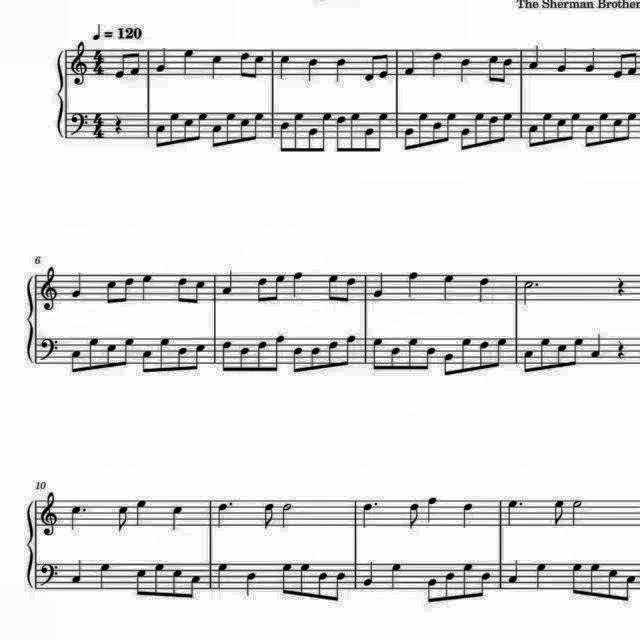Bass-clef: (38, 334, 62, 364), (38, 560, 62, 588), (66, 110, 90, 138)
Eighth-note: (346, 104, 362, 156), (459, 561, 476, 603), (334, 112, 350, 156), (272, 333, 288, 375), (290, 109, 306, 151), (622, 572, 640, 608), (458, 334, 474, 374), (158, 334, 174, 374), (298, 558, 314, 598), (587, 560, 603, 600), (377, 110, 391, 154), (132, 566, 150, 600), (172, 272, 190, 306), (236, 48, 254, 82), (406, 335, 422, 373), (604, 565, 620, 603), (568, 561, 584, 599), (370, 335, 386, 373), (87, 334, 103, 372), (150, 560, 166, 598), (278, 559, 294, 597), (115, 501, 133, 534), (344, 333, 360, 369), (360, 52, 378, 84), (444, 108, 460, 144), (525, 116, 541, 152), (277, 120, 293, 156), (594, 112, 610, 148), (538, 110, 554, 146), (472, 110, 486, 150), (494, 336, 510, 370), (314, 569, 330, 603), (486, 51, 502, 85), (442, 570, 458, 604), (122, 335, 138, 369), (536, 336, 552, 370), (218, 339, 234, 373), (424, 576, 441, 608), (624, 109, 640, 143), (324, 272, 341, 304), (612, 48, 628, 82), (498, 111, 514, 145), (566, 110, 582, 144), (550, 497, 568, 527), (320, 110, 332, 154), (324, 338, 340, 370), (478, 338, 494, 370), (288, 344, 304, 376), (478, 568, 494, 600), (250, 112, 266, 144), (120, 274, 136, 306), (569, 334, 585, 366), (252, 273, 268, 305), (254, 338, 268, 374), (170, 566, 184, 602), (168, 108, 182, 144), (191, 341, 207, 372), (103, 277, 119, 307), (406, 499, 422, 529), (250, 52, 266, 82), (272, 272, 288, 302), (262, 501, 278, 531), (68, 345, 84, 375), (418, 112, 430, 150), (174, 344, 190, 372), (308, 343, 324, 371), (138, 346, 154, 374), (113, 50, 127, 82), (334, 568, 350, 596), (306, 126, 322, 154), (442, 350, 458, 378), (344, 274, 358, 306), (190, 278, 206, 306), (402, 126, 418, 154), (520, 346, 536, 374), (186, 572, 202, 600), (224, 112, 236, 148), (627, 47, 640, 80), (104, 340, 118, 370), (555, 340, 569, 370), (488, 113, 500, 147), (130, 50, 144, 78), (423, 345, 437, 373), (238, 344, 252, 372), (181, 116, 195, 144), (388, 344, 402, 372), (458, 126, 472, 154), (361, 126, 375, 154), (152, 122, 166, 150), (583, 122, 597, 150), (210, 122, 224, 150), (502, 54, 514, 86), (198, 112, 210, 144), (612, 114, 624, 146), (556, 114, 568, 146), (380, 51, 392, 83), (240, 116, 252, 144), (430, 122, 442, 148), (639, 47, 640, 80)
Half-dot: (522, 277, 544, 307)
Half-note: (278, 502, 296, 530), (568, 499, 584, 529)
Quarter-dot: (506, 493, 528, 531), (66, 501, 90, 532), (356, 498, 379, 530), (213, 502, 234, 530)
Quarter-note: (69, 270, 87, 302), (440, 270, 458, 302), (96, 560, 114, 592), (133, 498, 151, 530), (371, 270, 389, 302), (213, 558, 231, 590), (427, 49, 445, 80), (180, 46, 197, 78), (68, 556, 86, 586), (528, 44, 546, 74), (476, 274, 494, 304), (208, 52, 226, 82), (168, 503, 186, 533), (458, 501, 476, 531), (387, 561, 405, 591), (531, 559, 549, 589), (406, 270, 424, 300), (156, 44, 172, 76), (554, 46, 570, 78), (426, 496, 442, 528), (138, 272, 154, 304), (359, 558, 376, 588), (220, 268, 237, 298), (404, 48, 421, 78), (456, 56, 474, 84), (276, 54, 294, 82), (242, 568, 260, 596), (584, 44, 600, 74), (288, 270, 304, 300), (334, 56, 351, 84), (508, 556, 524, 584), (306, 56, 322, 84), (589, 333, 605, 361)
Quarter-rest: (614, 273, 632, 299), (614, 336, 630, 362), (110, 112, 126, 136)
Treble-clef: (38, 265, 62, 315), (38, 491, 62, 541), (68, 40, 90, 89)
